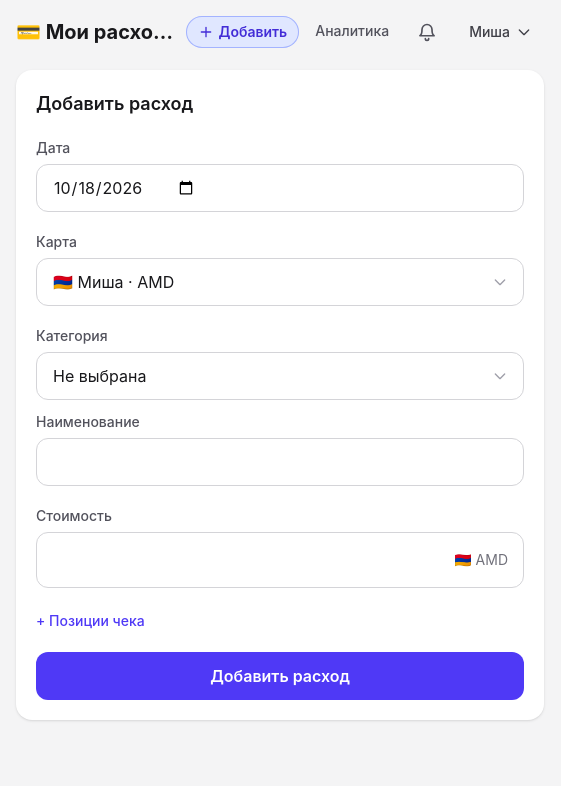
Scenario: чек без выбранной категории › ИИ недоступен: фото только после выбора категории, подсказки нет
Expected: the button "Добавить расход" is shown, [36, 652, 524, 700]
Expected: the button "Прикрепить фото чека" is not shown
Select "кафе" in the dropdown labelled "Категория": (280, 376) [36, 352, 524, 400]
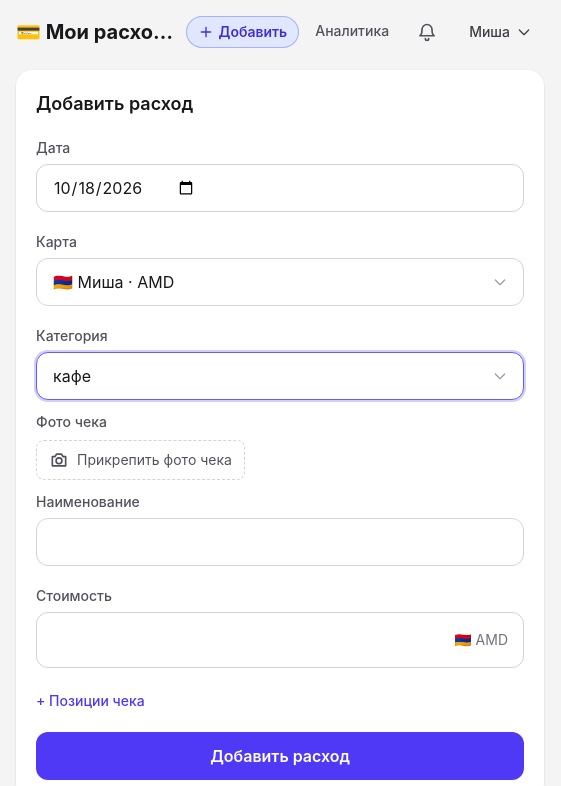
Now the button "Прикрепить фото чека" is shown, box [36, 440, 245, 480]
